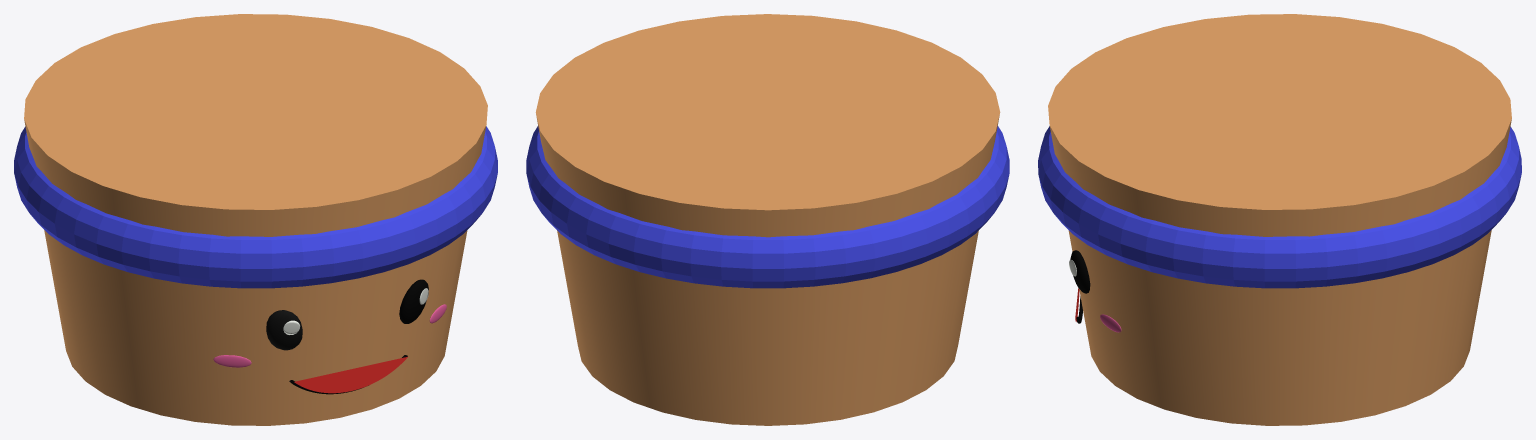
3 views of the same model, side by side, from view 1: azimuth 30°, elevation 25°; view 2: azimuth 150°, elevation 25°; view 3: azimuth 270°, elevation 25° (orthographic).
Parts seen in each view (by area): view 1: Cylinder, Torus, mouth, Sphere.001, Sphere; view 2: Cylinder, Torus; view 3: Cylinder, Torus, Sphere.
Part boxes in pixels (bbox=[...]): Cylinder: bbox=[24, 14, 487, 425]; Torus: bbox=[14, 126, 497, 288]; mouth: bbox=[294, 356, 407, 393]; Sphere.001: bbox=[266, 310, 302, 350]; Sphere: bbox=[399, 279, 428, 323]; Cylinder: bbox=[535, 14, 1000, 425]; Torus: bbox=[526, 126, 1009, 288]; Cylinder: bbox=[1048, 14, 1511, 425]; Torus: bbox=[1038, 126, 1521, 288]; Sphere: bbox=[1070, 250, 1090, 293].
Bounding box in the file's own units: 2.54 × 1.35 × 2.54.
